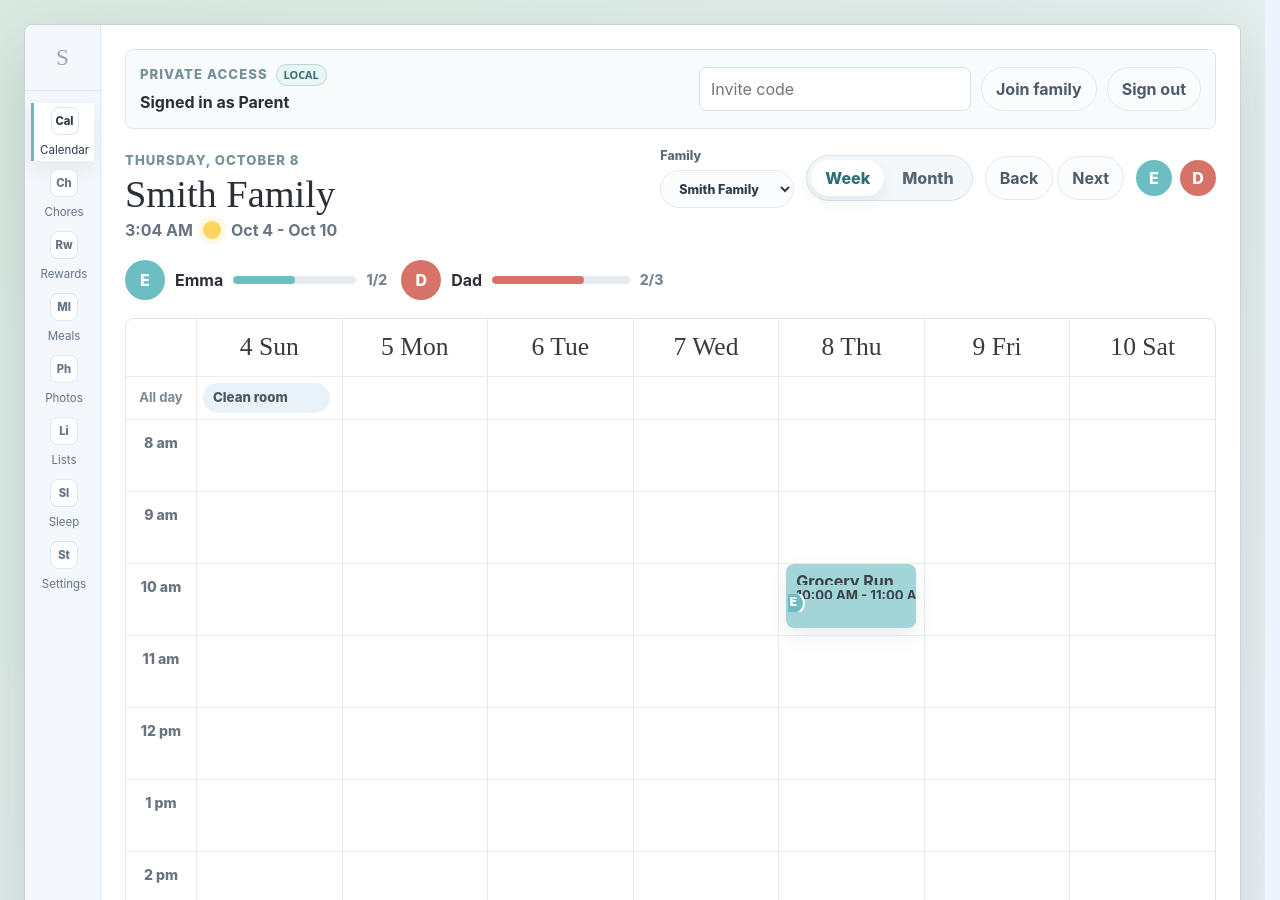
Test case: App › opens event details with edit and delete controls
expect the heading "Smith Family" is shown: met, box [125,175,337,214]
Click the text "Grocery Run" at (845, 578), box [796,572,894,585]
(page scrolled)
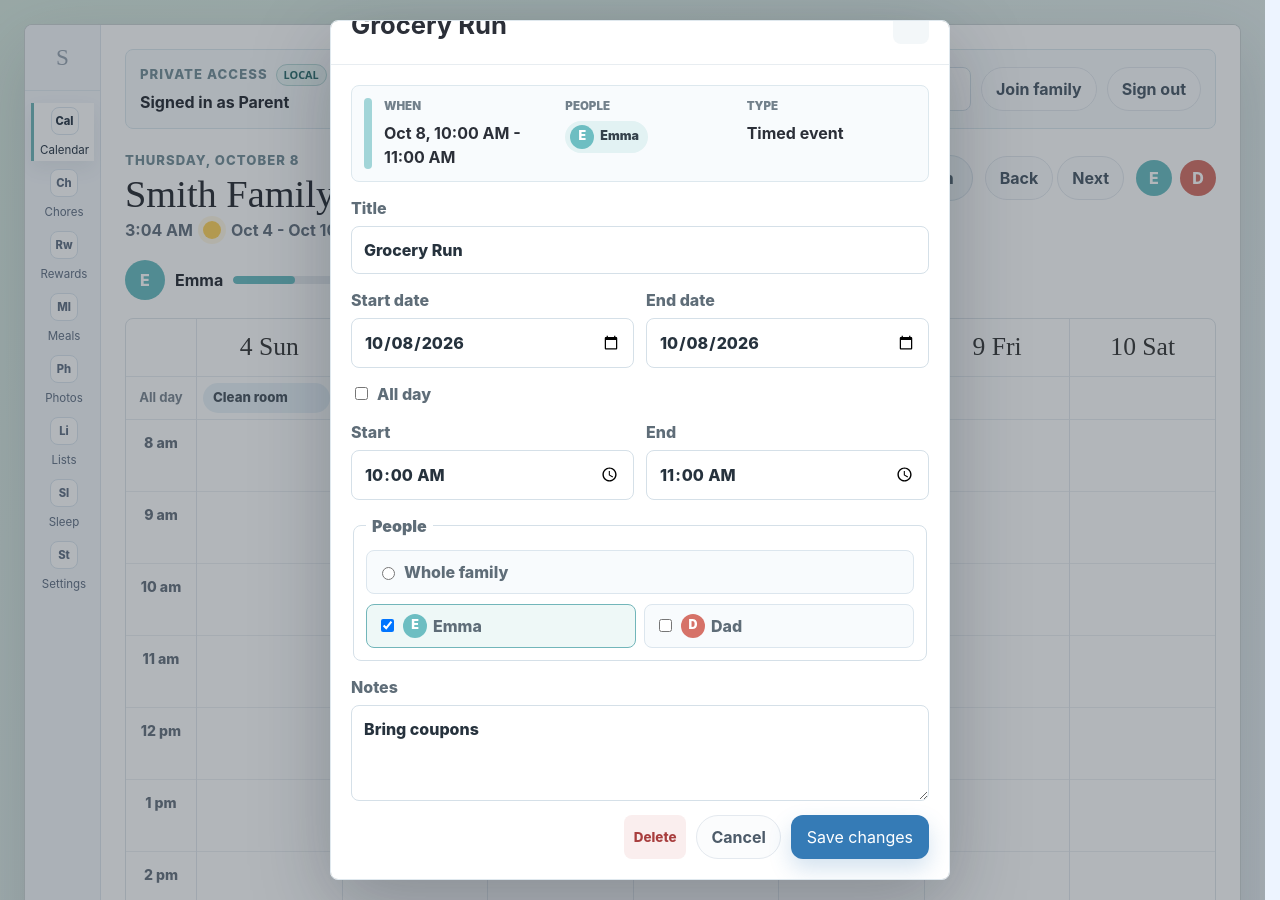
expect the text "When" is shown: met, box [384,99,421,113]
expect the text "People" next to "Type" is shown: met, box [565,99,610,113]
expect the text "Type" is shown: met, box [747,99,778,113]
